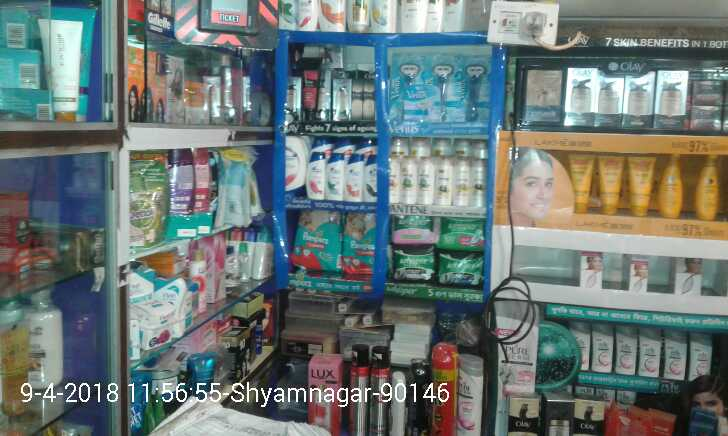venus: (463, 55, 489, 123), (405, 84, 441, 123), (393, 53, 428, 82), (432, 54, 460, 81)
